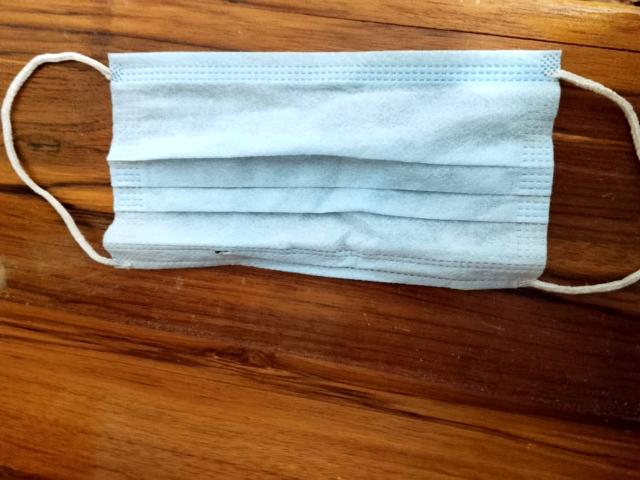mask: (4, 26, 640, 347)
